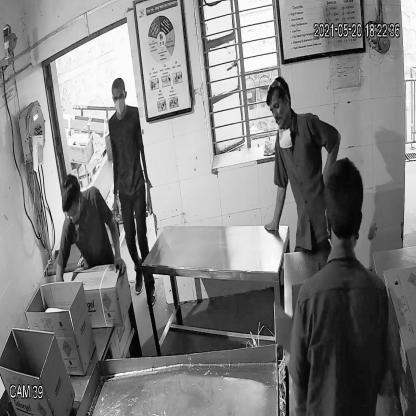no_goggles: (264, 97, 289, 117)
